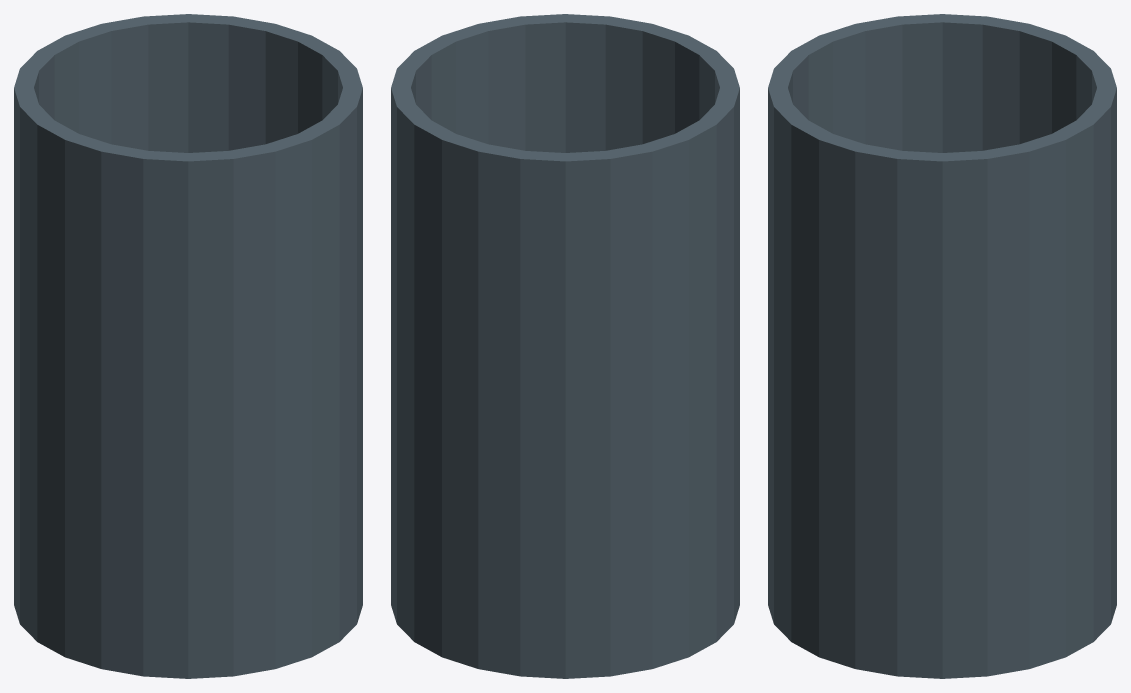
File: football-soccer-club-grounds-waste-bin-15a6b427.glb
3 renders of one model, left to right at view 1: azimuth 30°, elevation 25°; view 2: azimuth 150°, elevation 25°; view 3: azimuth 270°, elevation 25°, orthographic.
Visible parts, largest first — view 1: waste-bin; view 2: waste-bin; view 3: waste-bin.
Boxes of the visible parts, left/top/right/bottom form: waste-bin: left=14, top=14, right=362, bottom=678; waste-bin: left=391, top=14, right=739, bottom=678; waste-bin: left=768, top=14, right=1116, bottom=678.
Size of the model in its own units: 0.44 by 0.72 by 0.44.
